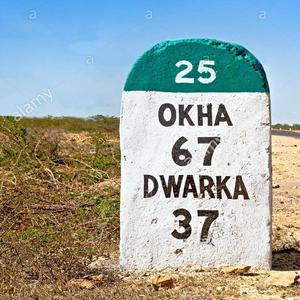kmstone: (118, 38, 275, 278)
